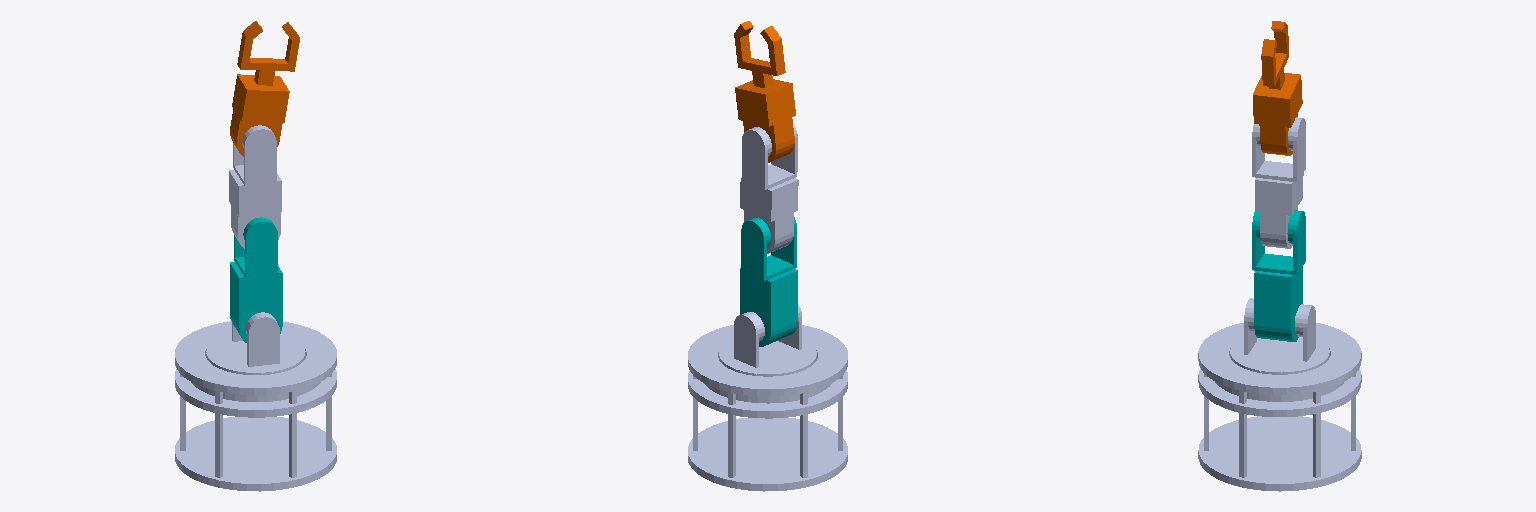
The robot description file, URDF, robot "project_arm_1":
<?xml version="1.0" encoding="utf-8"?>
<!-- This URDF was automatically created by SolidWorks to URDF Exporter! Originally created by [author] ([email redacted]) 
     Commit Version: 1.6.0-1-g15f4949  Build Version: 1.6.7594.29634
     For more information, please see http://wiki.ros.org/sw_urdf_exporter -->
<robot
  name="project_arm_1">
  <link
    name="base_robot">
    <inertial>
      <origin
        xyz="0.087847 0.068109 0.042187"
        rpy="0 0 0" />
      <mass
        value="0.72938" />
      <inertia
        ixx="0.0046602"
        ixy="-1.7167E-19"
        ixz="3.4245E-19"
        iyy="0.0044952"
        iyz="3.0632E-20"
        izz="0.0046602" />
    </inertial>
    <visual>
      <origin
        xyz="0 0 0"
        rpy="0 0 0" />
      <geometry>
        <mesh
          filename="package://project_arm_1/meshes/base_robot.STL" />
      </geometry>
      <material
        name="">
        <color
          rgba="0.79216 0.81961 0.93333 1" />
      </material>
    </visual>
    <collision>
      <origin
        xyz="0 0 0"
        rpy="0 0 0" />
      <geometry>
        <mesh
          filename="package://project_arm_1/meshes/base_robot.STL" />
      </geometry>
    </collision>
  </link>
  <link
    name="link_1">
    <inertial>
      <origin
        xyz="2.0817E-17 0 0.026561"
        rpy="0 0 0" />
      <mass
        value="0.72688" />
      <inertia
        ixx="0.0010151"
        ixy="-6.2818E-06"
        ixz="1.1473E-19"
        iyy="0.0010693"
        iyz="4.8997E-20"
        izz="0.0018887" />
    </inertial>
    <visual>
      <origin
        xyz="0 0 0"
        rpy="0 0 0" />
      <geometry>
        <mesh
          filename="package://project_arm_1/meshes/link_1.STL" />
      </geometry>
      <material
        name="">
        <color
          rgba="0.79216 0.81961 0.93333 1" />
      </material>
    </visual>
    <collision>
      <origin
        xyz="0 0 0"
        rpy="0 0 0" />
      <geometry>
        <mesh
          filename="package://project_arm_1/meshes/link_1.STL" />
      </geometry>
    </collision>
  </link>
  <joint
    name="joint_link_1"
    type="revolute">
    <origin
      xyz="0.087847 -0.042187 0.1015"
      rpy="0 0 -1.9517" />
    <parent
      link="base_robot" />
    <child
      link="link_1" />
    <axis
      xyz="0 0 1" />
    <limit
      lower="0"
      upper="0"
      effort="0"
      velocity="0" />
  </joint>
  <link
    name="link_2">
    <inertial>
      <origin
        xyz="-0.048042 -2.7756E-17 0.0015"
        rpy="0 0 0" />
      <mass
        value="0.28718" />
      <inertia
        ixx="0.00013287"
        ixy="-3.555E-19"
        ixz="-1.3036E-19"
        iyy="0.00064561"
        iyz="1.3553E-20"
        izz="0.00063883" />
    </inertial>
    <visual>
      <origin
        xyz="0 0 0"
        rpy="0 0 0" />
      <geometry>
        <mesh
          filename="package://project_arm_1/meshes/link_2.STL" />
      </geometry>
      <material
        name="">
        <color
          rgba="0 0.75294 0.75294 1" />
      </material>
    </visual>
    <collision>
      <origin
        xyz="0 0 0"
        rpy="0 0 0" />
      <geometry>
        <mesh
          filename="package://project_arm_1/meshes/link_2.STL" />
      </geometry>
    </collision>
  </link>
  <joint
    name="joint_link_2"
    type="revolute">
    <origin
      xyz="0 0 0.086"
      rpy="1.5708 1.5675 1.6847" />
    <parent
      link="link_1" />
    <child
      link="link_2" />
    <axis
      xyz="0 0 1" />
    <limit
      lower="0"
      upper="0"
      effort="0"
      velocity="0" />
  </joint>
  <link
    name="link_3">
    <inertial>
      <origin
        xyz="-0.053463 2.7756E-17 0.0015"
        rpy="0 0 0" />
      <mass
        value="0.25625" />
      <inertia
        ixx="0.00011215"
        ixy="4.3686E-19"
        ixz="1.9876E-19"
        iyy="0.00055529"
        iyz="1.3553E-20"
        izz="0.0005528" />
    </inertial>
    <visual>
      <origin
        xyz="0 0 0"
        rpy="0 0 0" />
      <geometry>
        <mesh
          filename="package://project_arm_1/meshes/link_3.STL" />
      </geometry>
      <material
        name="">
        <color
          rgba="0.79216 0.81961 0.93333 1" />
      </material>
    </visual>
    <collision>
      <origin
        xyz="0 0 0"
        rpy="0 0 0" />
      <geometry>
        <mesh
          filename="package://project_arm_1/meshes/link_3.STL" />
      </geometry>
    </collision>
  </link>
  <joint
    name="joint_link_3"
    type="revolute">
    <origin
      xyz="-0.125 0 0"
      rpy="0 0 0.0082554" />
    <parent
      link="link_2" />
    <child
      link="link_3" />
    <axis
      xyz="0 0 1" />
    <limit
      lower="0"
      upper="0"
      effort="0"
      velocity="0" />
  </joint>
  <link
    name="link_4">
    <inertial>
      <origin
        xyz="-0.041905 -4.5103E-17 0.0015"
        rpy="0 0 0" />
      <mass
        value="0.21479" />
      <inertia
        ixx="9.1304E-05"
        ixy="-3.0811E-19"
        ixz="-9.5926E-20"
        iyy="0.00032596"
        iyz="6.7763E-21"
        izz="0.00036238" />
    </inertial>
    <visual>
      <origin
        xyz="0 0 0"
        rpy="0 0 0" />
      <geometry>
        <mesh
          filename="package://project_arm_1/meshes/link_4.STL" />
      </geometry>
      <material
        name="">
        <color
          rgba="0.9098 0.44314 0.031373 1" />
      </material>
    </visual>
    <collision>
      <origin
        xyz="0 0 0"
        rpy="0 0 0" />
      <geometry>
        <mesh
          filename="package://project_arm_1/meshes/link_4.STL" />
      </geometry>
    </collision>
  </link>
  <joint
    name="joint_link_4"
    type="revolute">
    <origin
      xyz="-0.125 0 0"
      rpy="0 0 -0.16949" />
    <parent
      link="link_3" />
    <child
      link="link_4" />
    <axis
      xyz="0 0 1" />
    <limit
      lower="0"
      upper="0"
      effort="0"
      velocity="0" />
  </joint>
</robot>

--- Render facts (derived) ---
3 views of the same robot in one strip: view 1: azimuth 30°, elevation 25°; view 2: azimuth 150°, elevation 25°; view 3: azimuth 270°, elevation 25° (orthographic).
Model project_arm_1 with 5 links and 4 joints (4 revolute), rooted at base_robot, posed every joint at zero.
Links seen in each view (by area): view 1: base_robot, link_4, link_2, link_1, link_3; view 2: base_robot, link_2, link_4, link_3, link_1; view 3: base_robot, link_2, link_1, link_3, link_4.
Boxes of the visible links, box(x1,y1,x2,y2) form: base_robot: box(175, 321, 336, 491); link_4: box(230, 21, 299, 156); link_2: box(230, 217, 282, 342); link_1: box(191, 312, 320, 401); link_3: box(229, 125, 281, 248); base_robot: box(688, 325, 847, 491); link_2: box(740, 217, 797, 346); link_4: box(734, 21, 795, 162); link_3: box(740, 123, 798, 253); link_1: box(704, 304, 830, 403); base_robot: box(1198, 323, 1361, 491); link_2: box(1252, 210, 1305, 341); link_1: box(1215, 298, 1343, 401); link_3: box(1252, 117, 1305, 248); link_4: box(1253, 21, 1302, 155).
Bounding box of the posed robot: 0.2 × 0.1998 × 0.5889 m (x, y, z).
Meshes: 5 distinct files referenced, 5 mesh visuals loaded (5 binary STL).